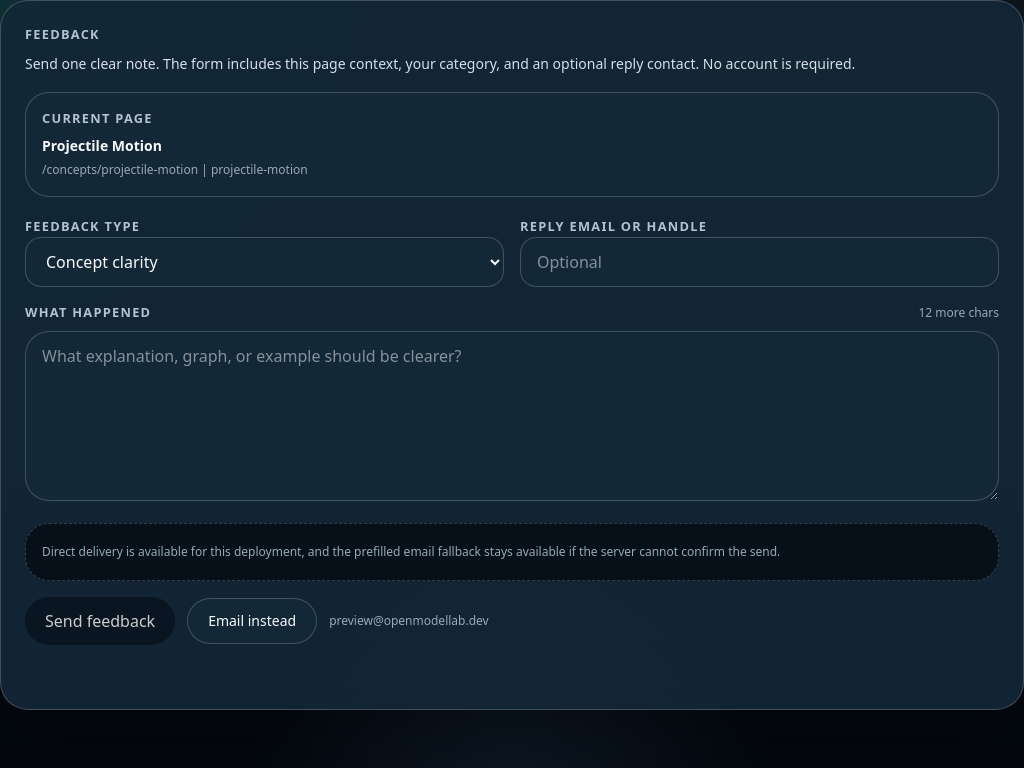
FeedbackCaptureForm › keeps direct delivery available after a retryable delivery timeout
In the text box labelled "What happened 12 more chars": (512, 416) left=25, top=331, right=999, bottom=501, type "The delivery timeout should still let me retry this note directly from the form."
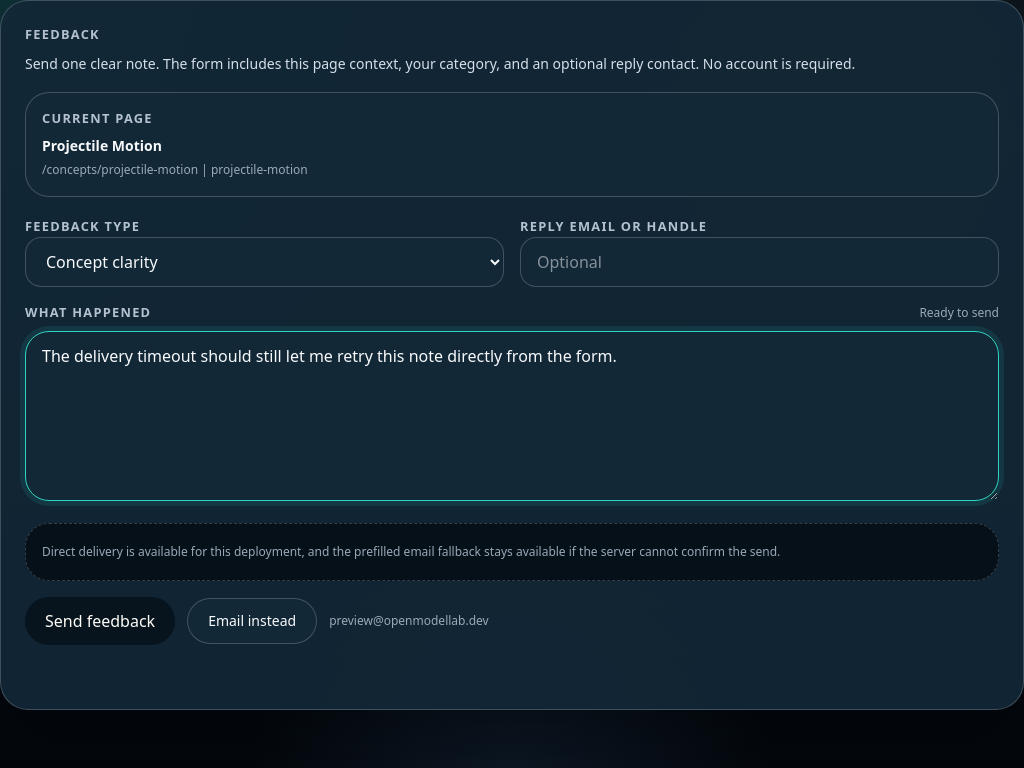
Click the button "Send feedback": click(100, 621) left=25, top=597, right=175, bottom=645
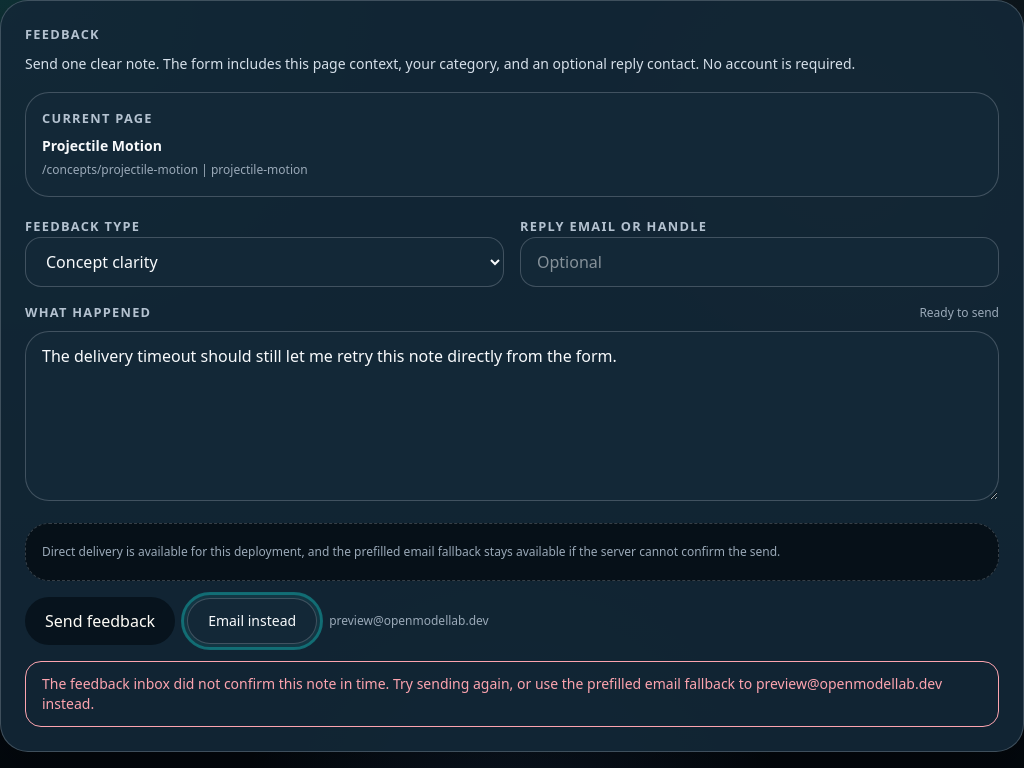
expect the text "Direct delivery is available for this deployment" is shown: met, box left=42, top=543, right=780, bottom=560
expect the button "Send feedback" is enabled: met, box left=25, top=597, right=175, bottom=645
expect the text "did not confirm this note in time" is shown: met, box left=42, top=674, right=942, bottom=713
